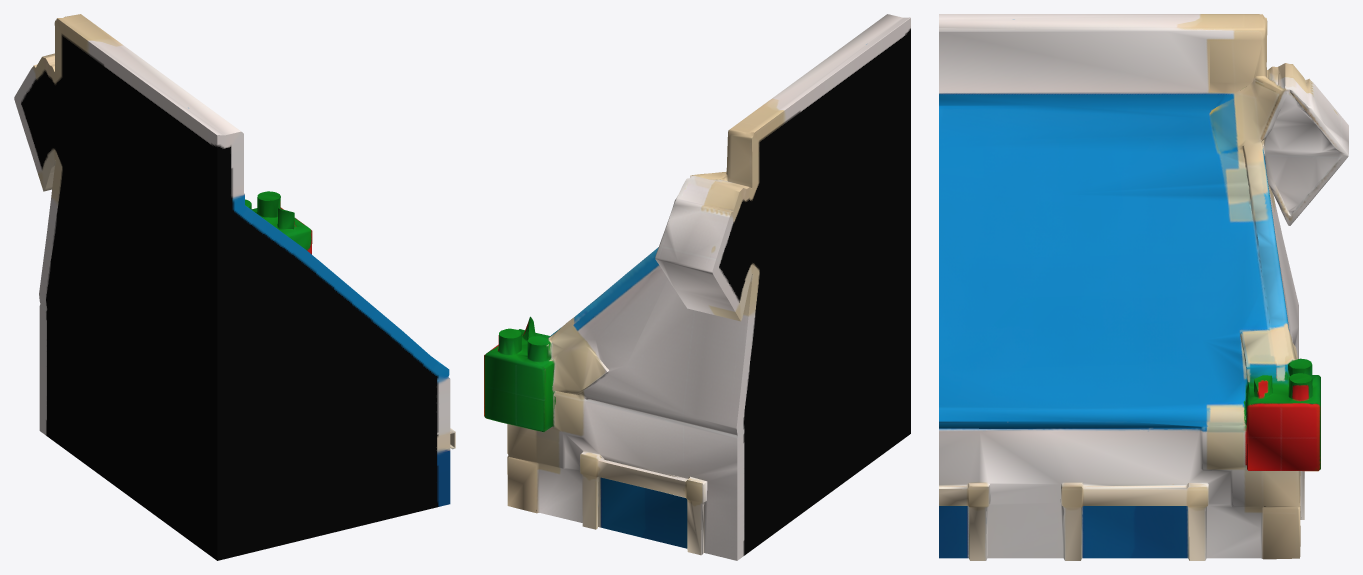
File: 16-topper-back-right.fbx
3 views of the same model, side by side, from view 1: azimuth 30°, elevation 25°; view 2: azimuth 150°, elevation 25°; view 3: azimuth 270°, elevation 25° (orthographic). The views are drawn at different scales.
Parts seen in each view (by area): view 1: topper-back-right; view 2: topper-back-right; view 3: topper-back-right.
Part boxes in pixels (x1,y1,x2,y2): topper-back-right: (14, 14, 455, 560); topper-back-right: (484, 14, 910, 560); topper-back-right: (939, 14, 1348, 560).
Size of the model in its own units: 4651 by 7605 by 6574.
Materials: 1 (1 with a texture image).
